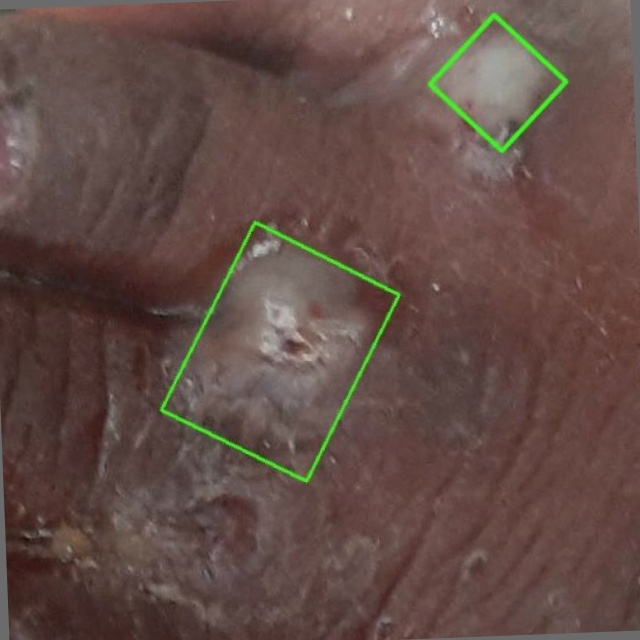Eczema: (162, 223, 399, 482), (429, 14, 566, 150)
